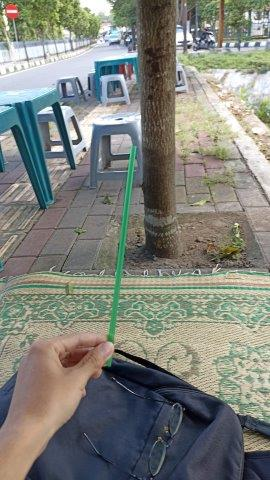sedotan: (105, 146, 137, 366)
